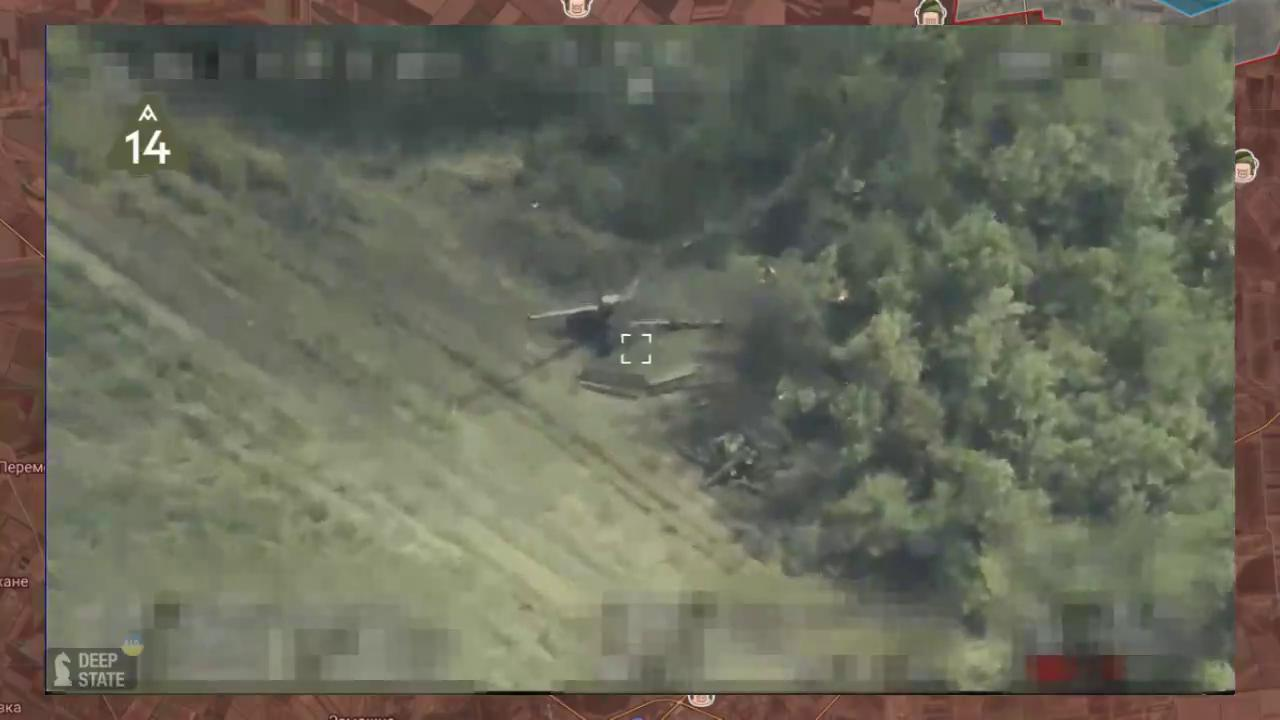tank: (526, 272, 730, 405)
